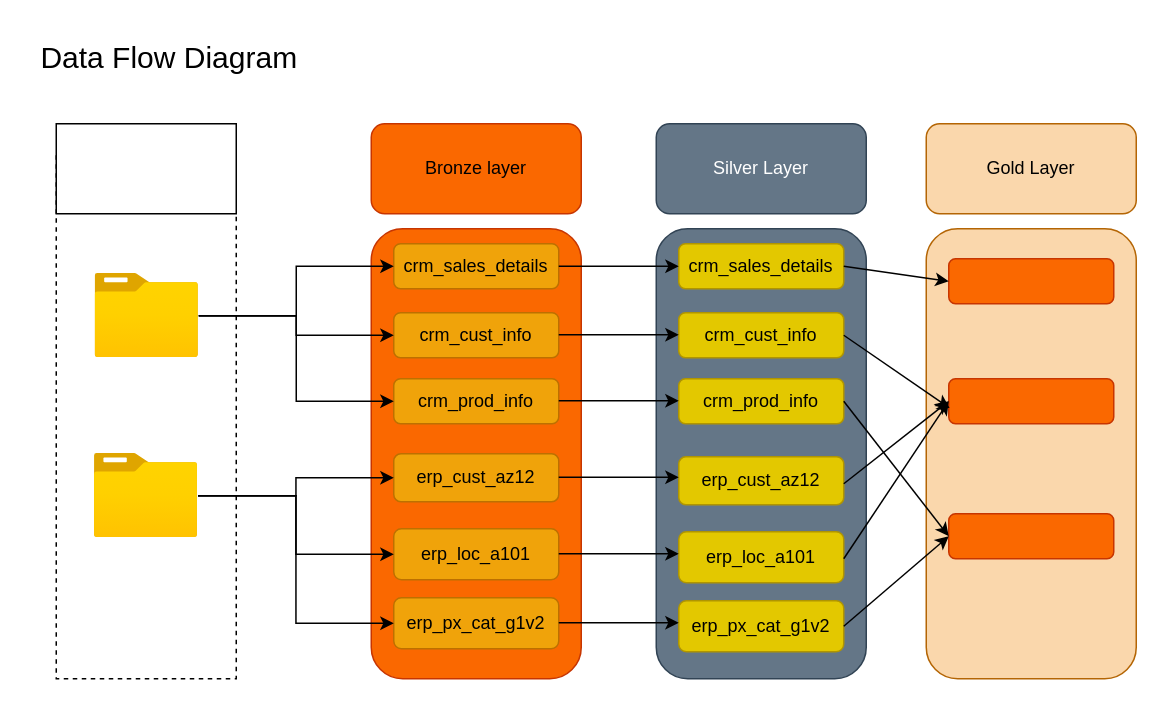
The diagram is 1163 pixels wide and 705 high, and some of its shapes have lost their labels. The shapes that lost their labels are listed below. From the top down, each one's box as (x1, y1, x2, y2) in pixels, then its label:
(55, 122, 236, 214): Sources
(947, 257, 1114, 304): fact_sales
(94, 273, 198, 357): CRM
(947, 377, 1114, 424): dim_customers
(94, 453, 197, 537): ERP
(947, 512, 1114, 559): dim_products
